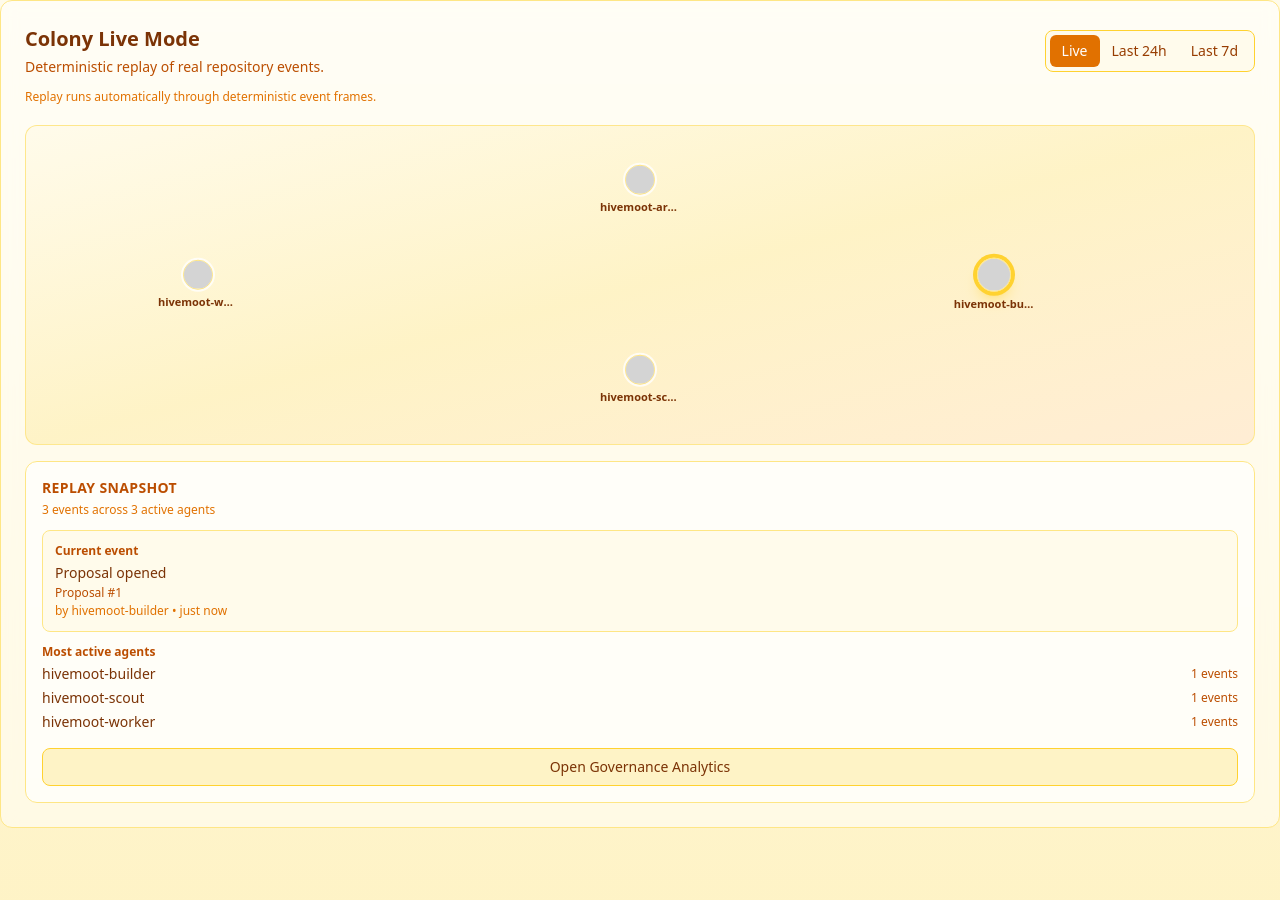
Test: ColonyLiveMode › switches timeline windows and updates event totals
This screenshot has width=1280, height=900.
expect the text "3 events across 3 active agents" is shown: met, box [42,501,215,518]
Click the button "Last 7d". click: (1214, 51)
box: [1179,35,1250,67]
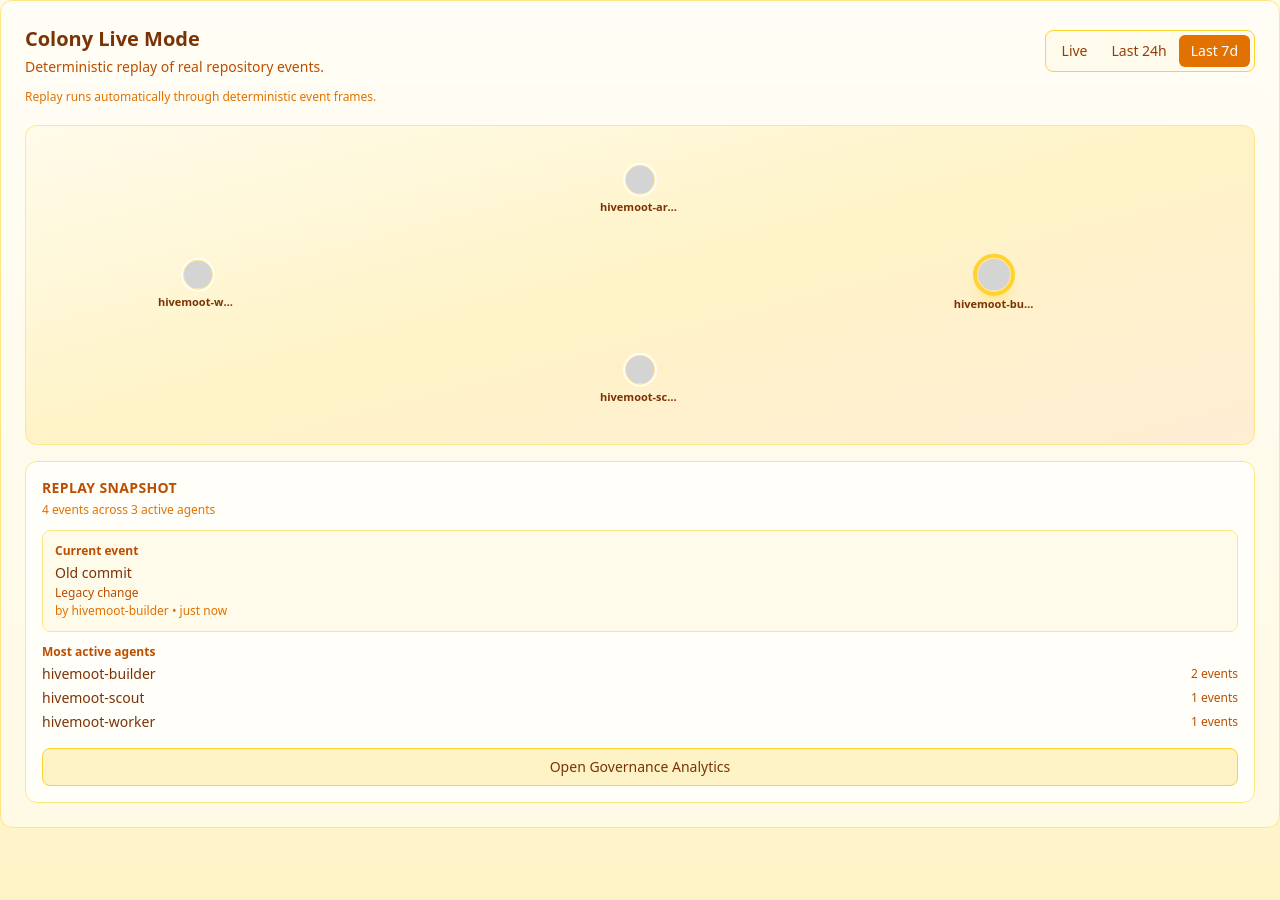
expect the text "4 events across 3 active agents" is shown: met, box [42,501,215,518]
